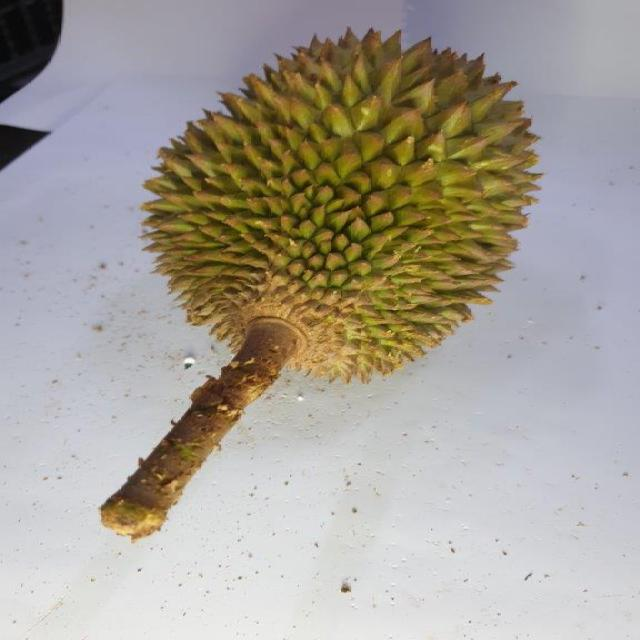mature: (138, 31, 550, 382)
